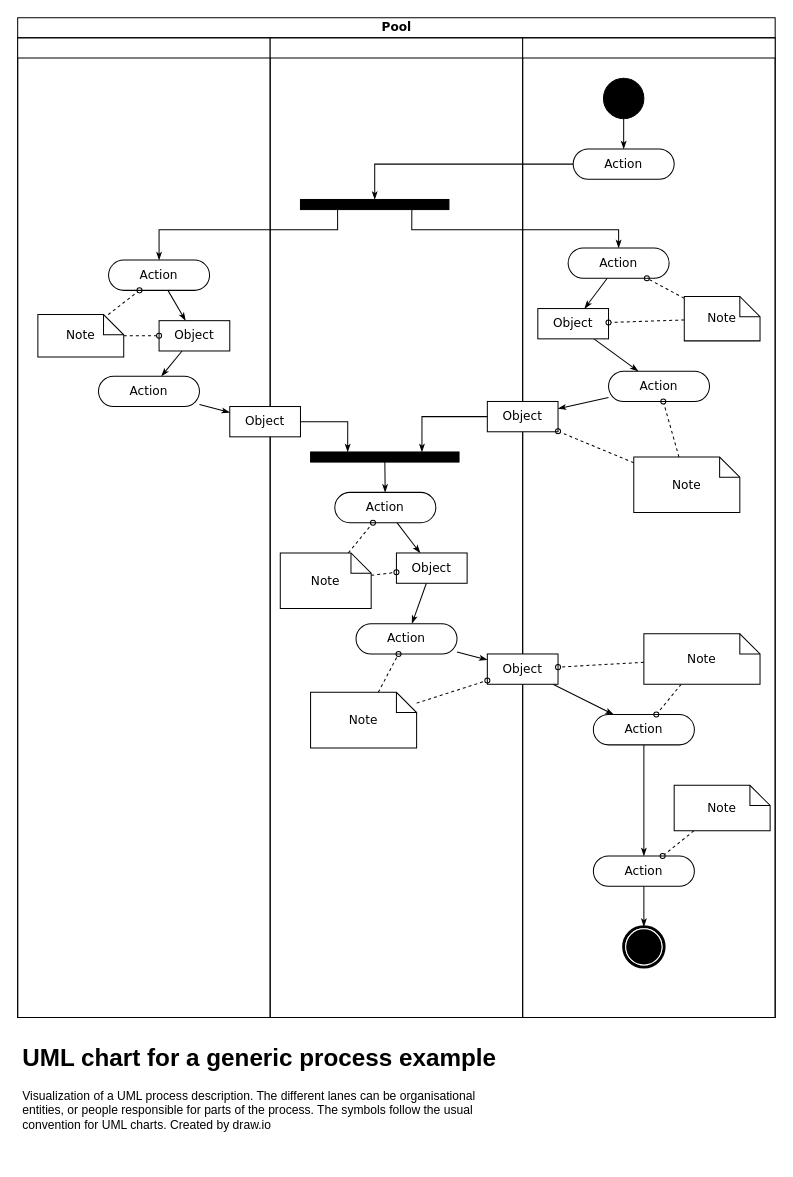
Image size: 793x1177. Some labels were removed from this diagram. The shapes that lost their labels are listed below. From the top down, each one's box as (x1, y1, x2, y2) in pixels, then its label:
(17, 37, 270, 1018): Lane 1
(269, 37, 523, 1018): Lane 2
(522, 37, 775, 1018): Lane 3
